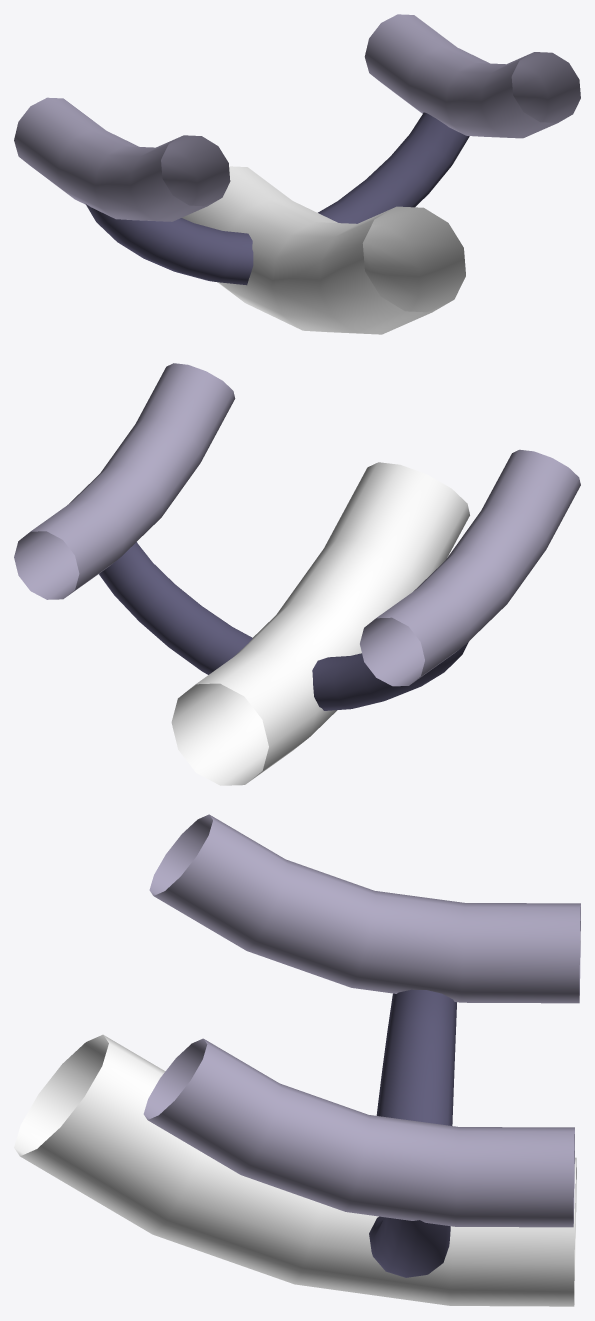
Rendered from rail-down-end.glb.
The picture shows the model from 3 angles, top to bottom: view 1: azimuth 30°, elevation 25°; view 2: azimuth 150°, elevation 25°; view 3: azimuth 270°, elevation 25°; orthographic projection. The views are drawn at different scales.
Parts seen in each view (by area): view 1: Plane.290_Material.001_0.002; view 2: Plane.290_Material.001_0.002; view 3: Plane.290_Material.001_0.002.
Boxes of the visible parts, x1,y1,x2,y2 form: Plane.290_Material.001_0.002: (14, 14, 580, 334); Plane.290_Material.001_0.002: (14, 363, 580, 785); Plane.290_Material.001_0.002: (14, 814, 580, 1306).
Bounding box in the file's own units: 2.76 × 1.75 × 2.46.
Materials: 1 (1 with a texture image).
